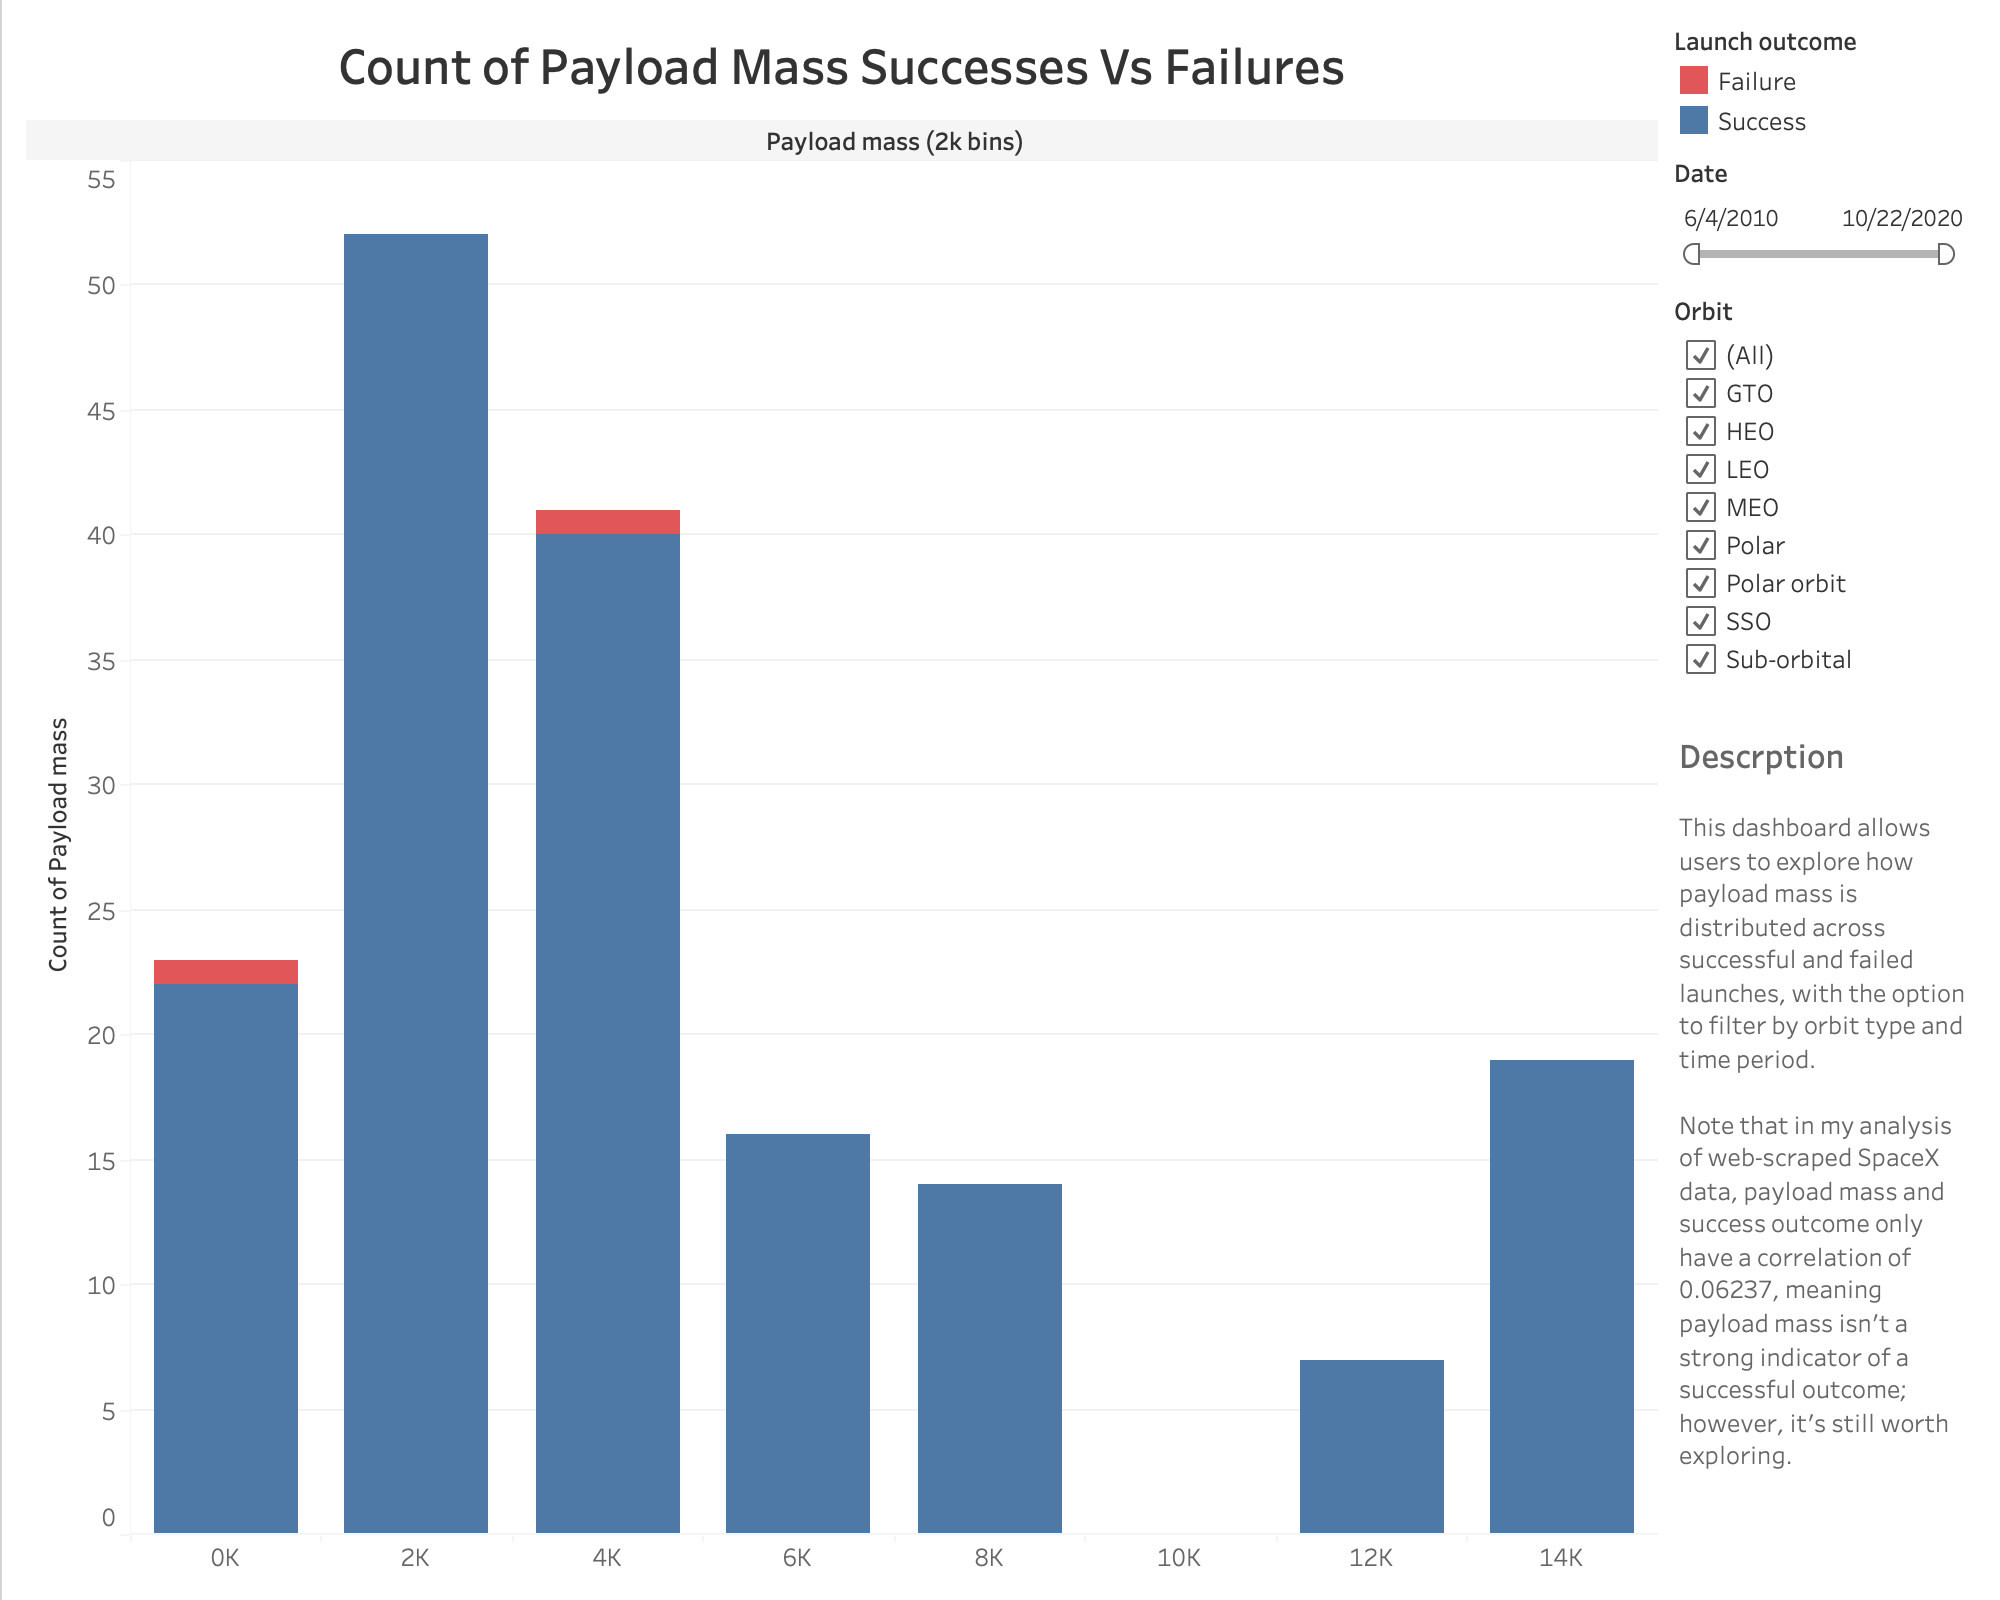

Layout of this report page (visuals, bound fields, positions):
{"tool":"tableau","page":{"name":"SpaceX Histogram Dashboard","canvas":[1000,800],"ordinal":1},"visuals":[{"type":"worksheet","title":"Sheet 2","mark":"Automatic","rows":["Payload mass"],"cols":["Payload mass (bin) 2"],"box":[8,8,824,784]},{"type":"legend","title":"Sheet 2","param":"[federated.1i19rf00il3kjd1gz88cp0l0uom9].[none:Launch outcome:nk]","box":[832,8,160,66]},{"type":"filter","title":"Sheet 2","param":"[federated.1i19rf00il3kjd1gz88cp0l0uom9].[none:Date:qk]","box":[832,74,160,69]},{"type":"filter","title":"Sheet 2","param":"[federated.1i19rf00il3kjd1gz88cp0l0uom9].[none:Orbit:nk]","box":[832,143,160,203]},{"type":"text","box":[832,346,160,404]}]}

Visuals, with their boxes in screenshot pixels (x1, y1, x2, y2), scaled from the page's 1000x800 canvas onto the 2000x1600 screenshot:
"Sheet 2" worksheet: box=[16, 16, 1664, 1584]
"Sheet 2" legend: box=[1664, 16, 1984, 148]
"Sheet 2" filter: box=[1664, 148, 1984, 286]
"Sheet 2" filter: box=[1664, 286, 1984, 692]
text: box=[1664, 692, 1984, 1500]
